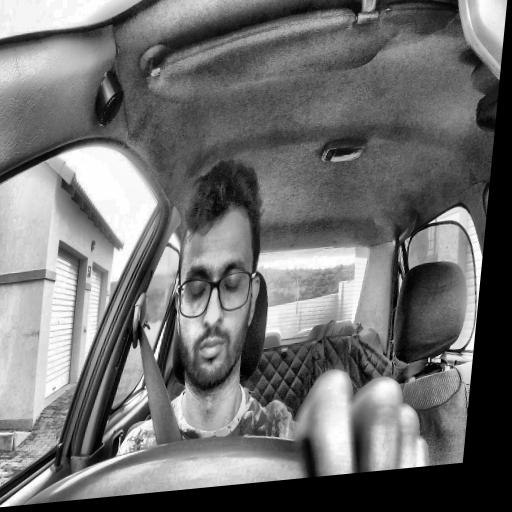drowsy: (164, 154, 274, 397)
